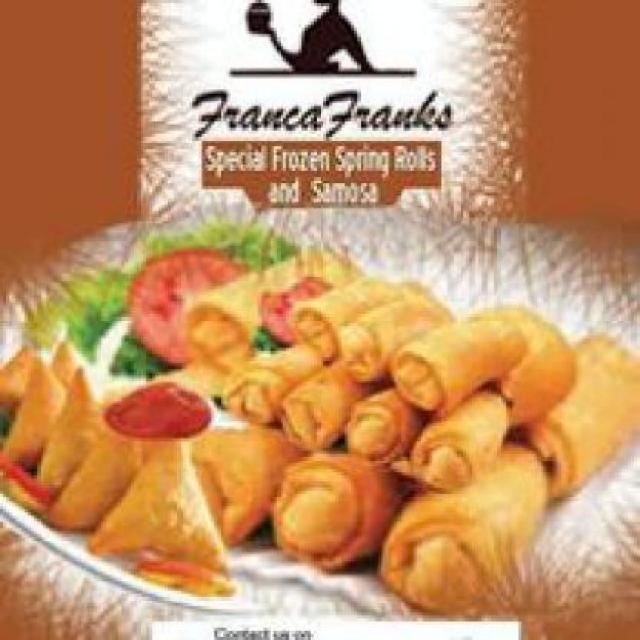spring rolls: (183, 226, 634, 600)
